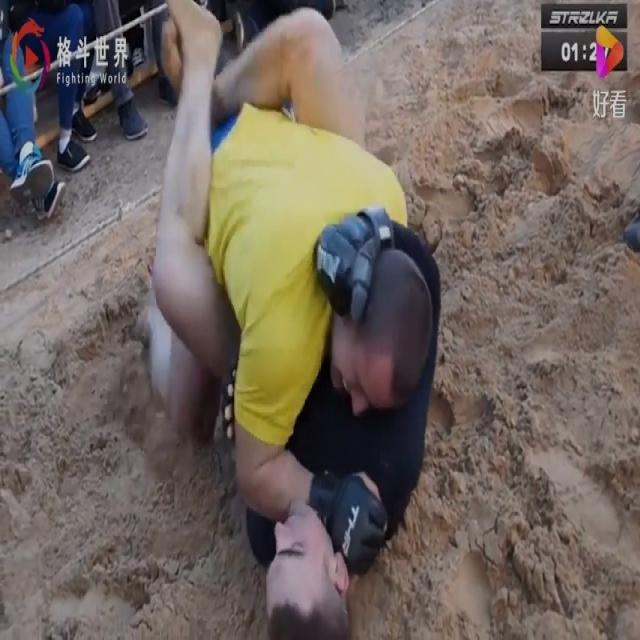fight: (134, 0, 447, 637)
